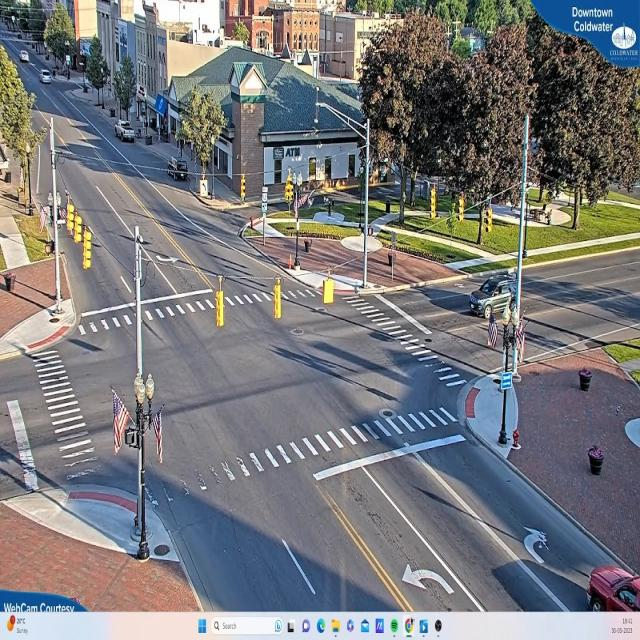car: (588, 566, 639, 612), (117, 122, 137, 145)
